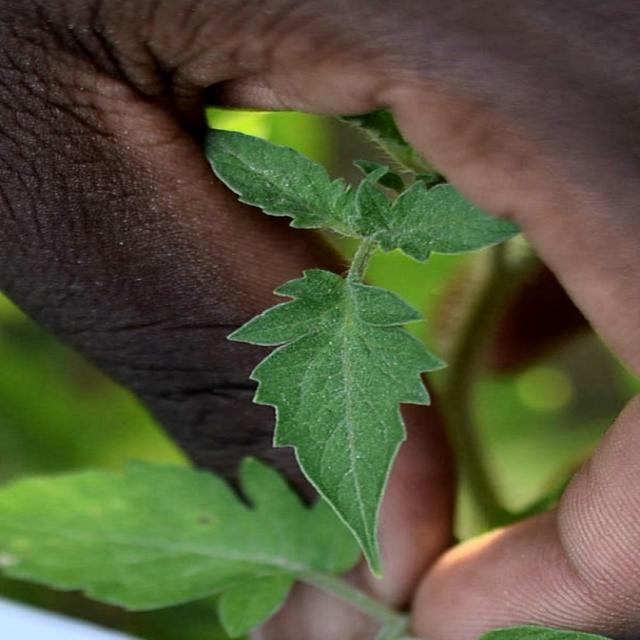healthy: (223, 273, 453, 582), (3, 459, 361, 640), (204, 126, 459, 265)
